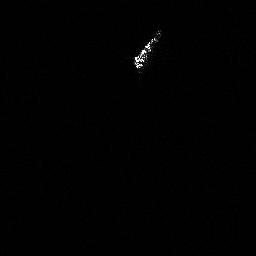ship: (128, 25, 166, 73)
